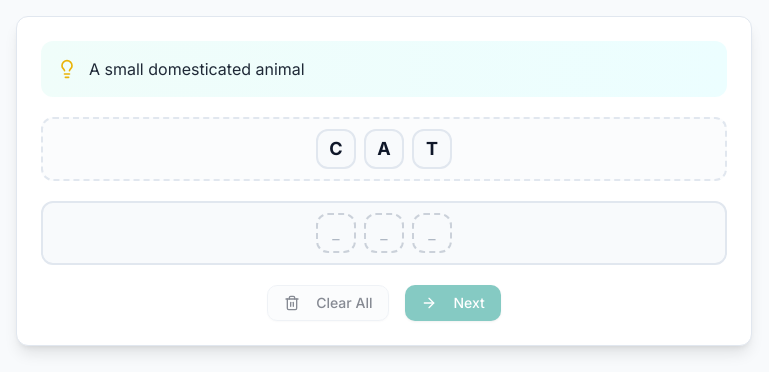
Test: WordBuilderPlayer › clear functionality › clears all placed letters when Clear All is clicked
// Place some letters
Click the button "t" at (432, 149), box [412, 129, 452, 169]
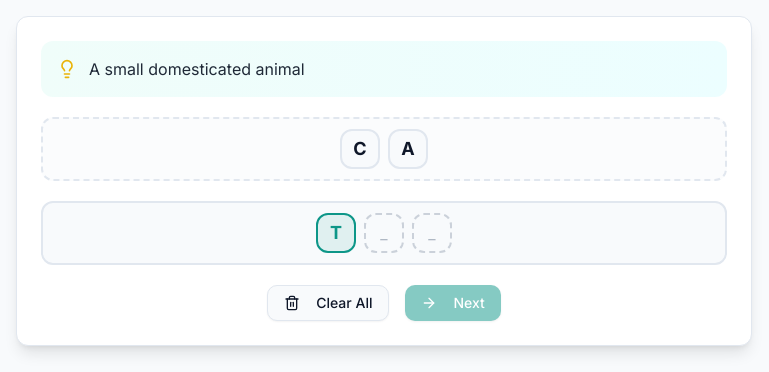
Click the button "a" at (408, 149), box [388, 129, 428, 169]
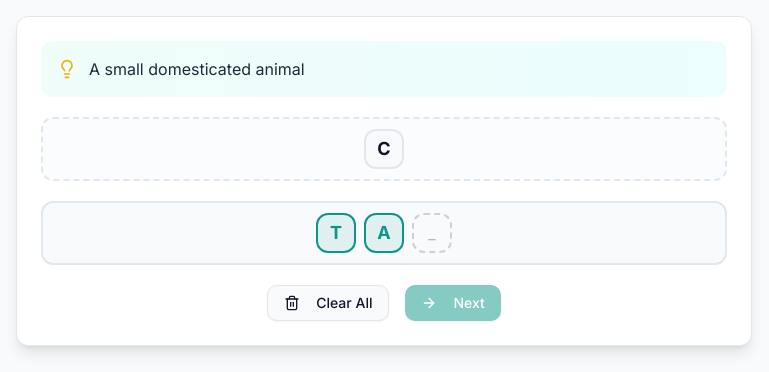
Expected: the text "_" is shown once, [412, 213, 452, 253]
// Click Clear All
Click the button "Clear All" at (328, 303), box [267, 285, 389, 321]
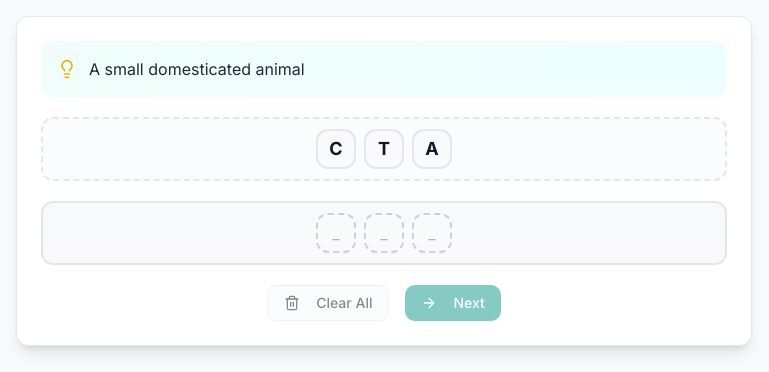
Result: the text "_" is shown 3 times at [316, 213, 356, 253]; [364, 213, 404, 253]; [412, 213, 452, 253]
